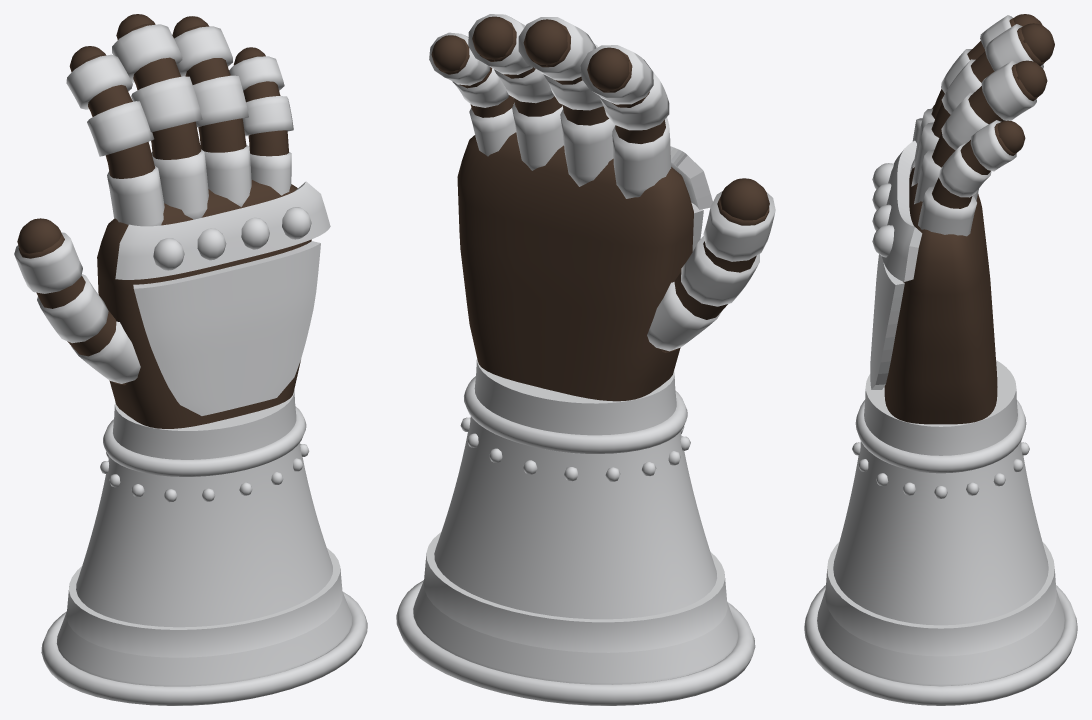
File: gloves_power_uncommon.glb
3 views of the same model, side by side, from view 1: azimuth 30°, elevation 25°; view 2: azimuth 150°, elevation 25°; view 3: azimuth 270°, elevation 25° (orthographic). The views are drawn at different scales.
Parts seen in each view (by area): view 1: gloves_power_uncommon; view 2: gloves_power_uncommon; view 3: gloves_power_uncommon.
Part boxes in pixels (bbox=[...]): gloves_power_uncommon: bbox=[14, 14, 367, 705]; gloves_power_uncommon: bbox=[396, 14, 775, 705]; gloves_power_uncommon: bbox=[804, 14, 1077, 705].
Bounding box in the file's own units: 1.61 × 2.82 × 1.16.
